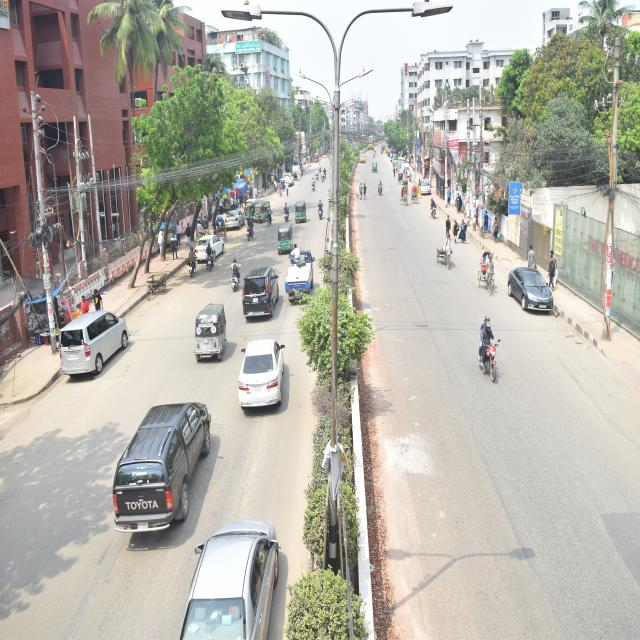car: (112, 398, 212, 534), (174, 520, 281, 640), (58, 310, 131, 377), (237, 336, 286, 411), (507, 262, 555, 316), (192, 230, 226, 259), (224, 208, 245, 228), (417, 176, 431, 195)
microbus: (242, 265, 280, 320)
motorbike: (478, 330, 502, 385), (204, 246, 218, 275), (187, 253, 200, 284), (231, 260, 240, 294), (281, 201, 291, 224), (316, 198, 326, 220), (246, 217, 253, 246), (376, 178, 384, 198)
pickup-van: (283, 247, 317, 303)
